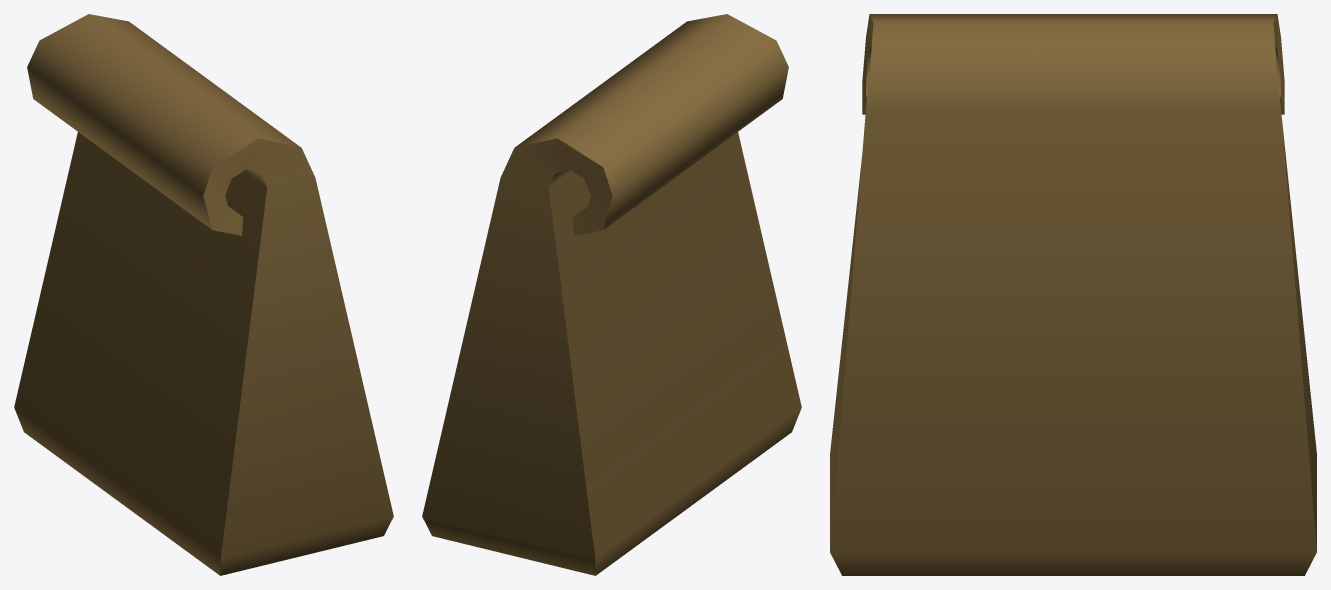
Rendered from BagFood_1_B.fbx.
3 renders of one model, left to right at view 1: azimuth 30°, elevation 25°; view 2: azimuth 150°, elevation 25°; view 3: azimuth 270°, elevation 25°, orthographic. The views are drawn at different scales.
Parts seen in each view (by area): view 1: BagFood_1_B; view 2: BagFood_1_B; view 3: BagFood_1_B.
Part boxes in pixels (x1,y1,x2,y2): BagFood_1_B: (14,14,393,575); BagFood_1_B: (422,14,801,575); BagFood_1_B: (830,14,1316,575).
Bounding box in the file's own units: 15.18 × 35.13 × 30.98.
